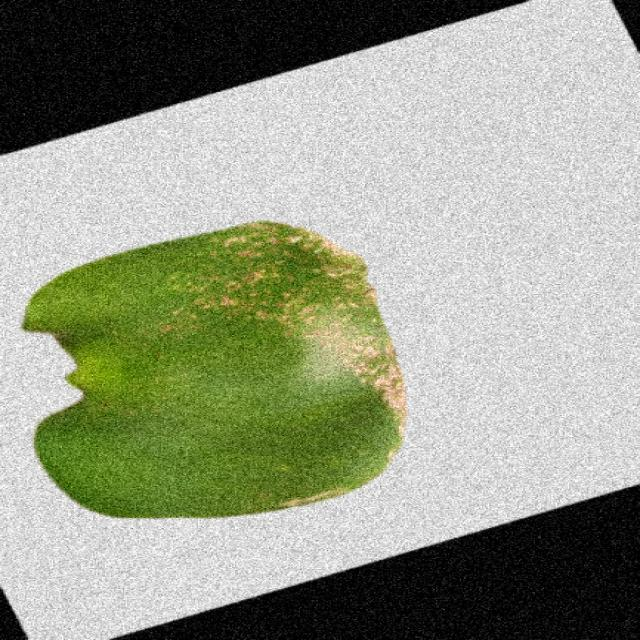daun berpenyakit bercak: (23, 221, 403, 517)
